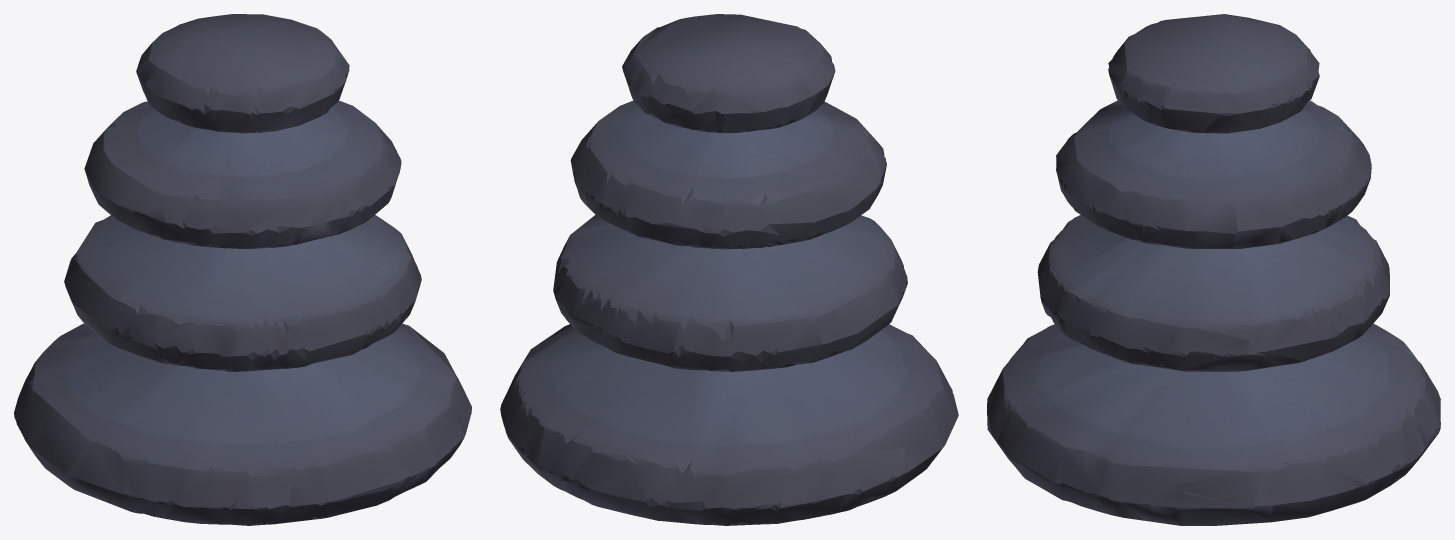
The model's file is cairn.glb.
3 renders of one model, left to right at view 1: azimuth 30°, elevation 25°; view 2: azimuth 150°, elevation 25°; view 3: azimuth 270°, elevation 25°, orthographic.
Visible parts, largest first — view 1: Rodin_riverstone; view 2: Rodin_riverstone; view 3: Rodin_riverstone.
Part boxes in pixels (x1,y1,x2,y2): Rodin_riverstone: (14,14,471,525); Rodin_riverstone: (500,14,958,525); Rodin_riverstone: (987,14,1440,525).
Bounding box in the file's own units: 1.87 × 1.82 × 1.87.
1 material, 1 textured.
